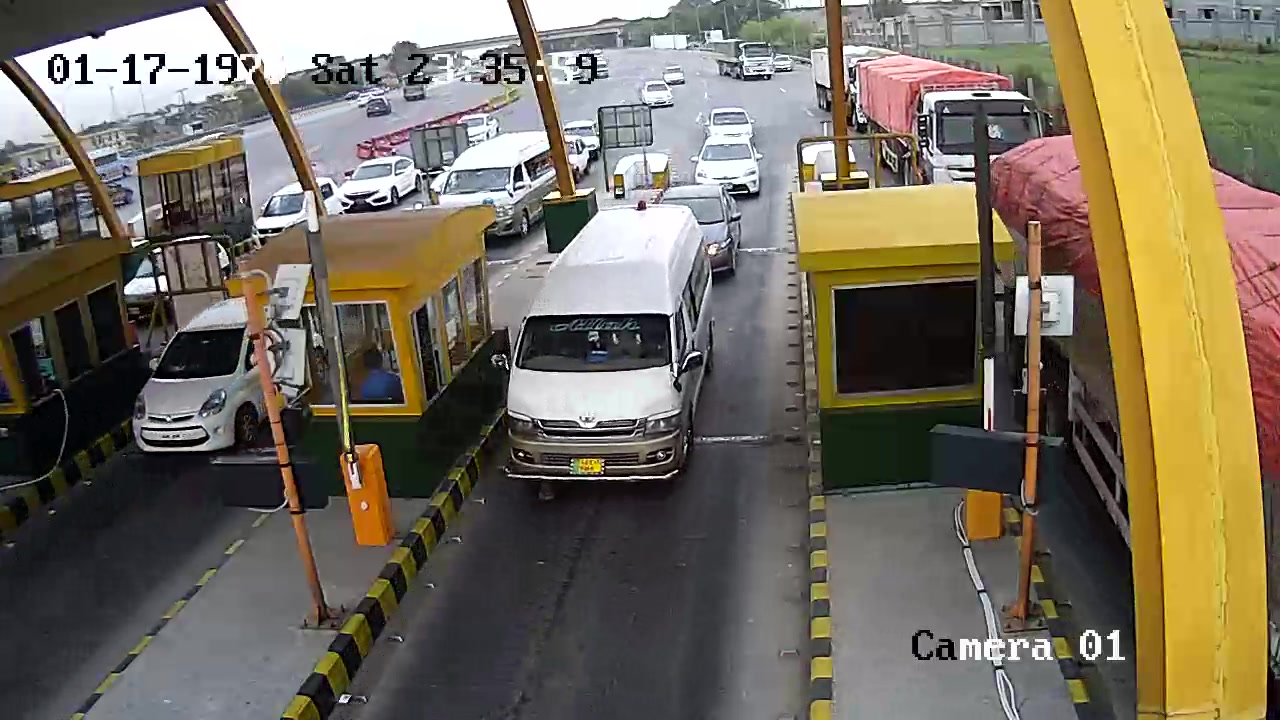F2: (506, 190, 712, 490)
